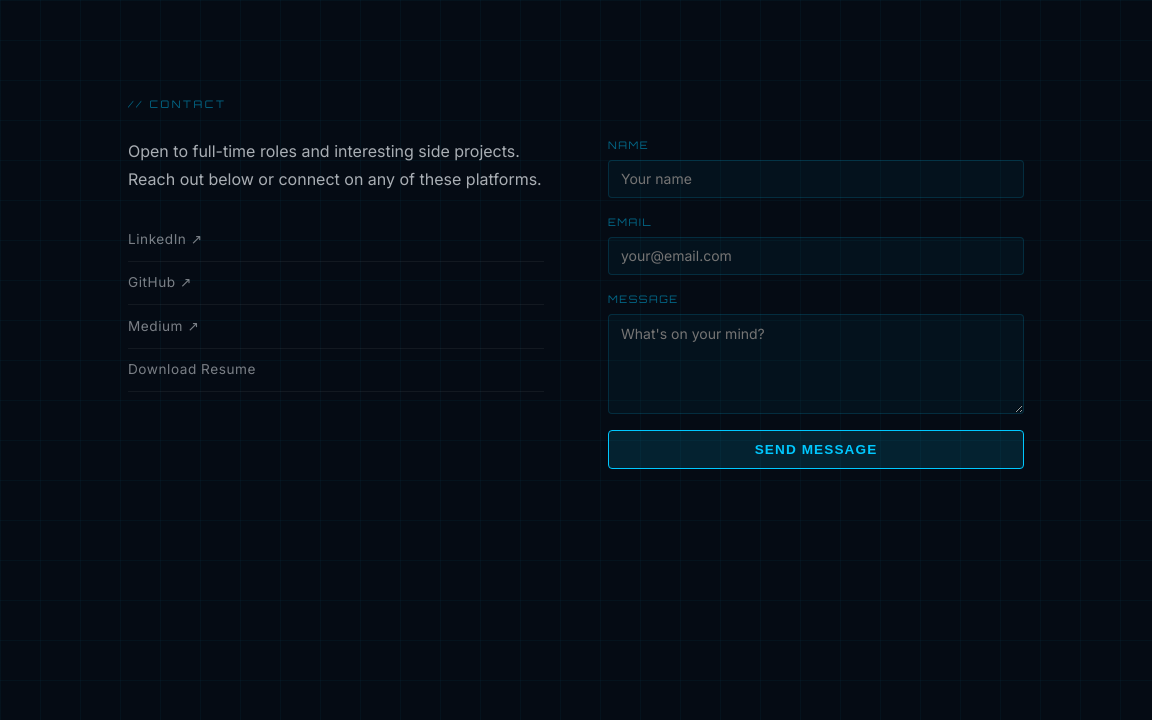
shows error message when submission fails
The width and height of the screenshot is (1152, 720).
In the field labelled "Name": (816, 179) [608,160,1024,198], type "Test User"
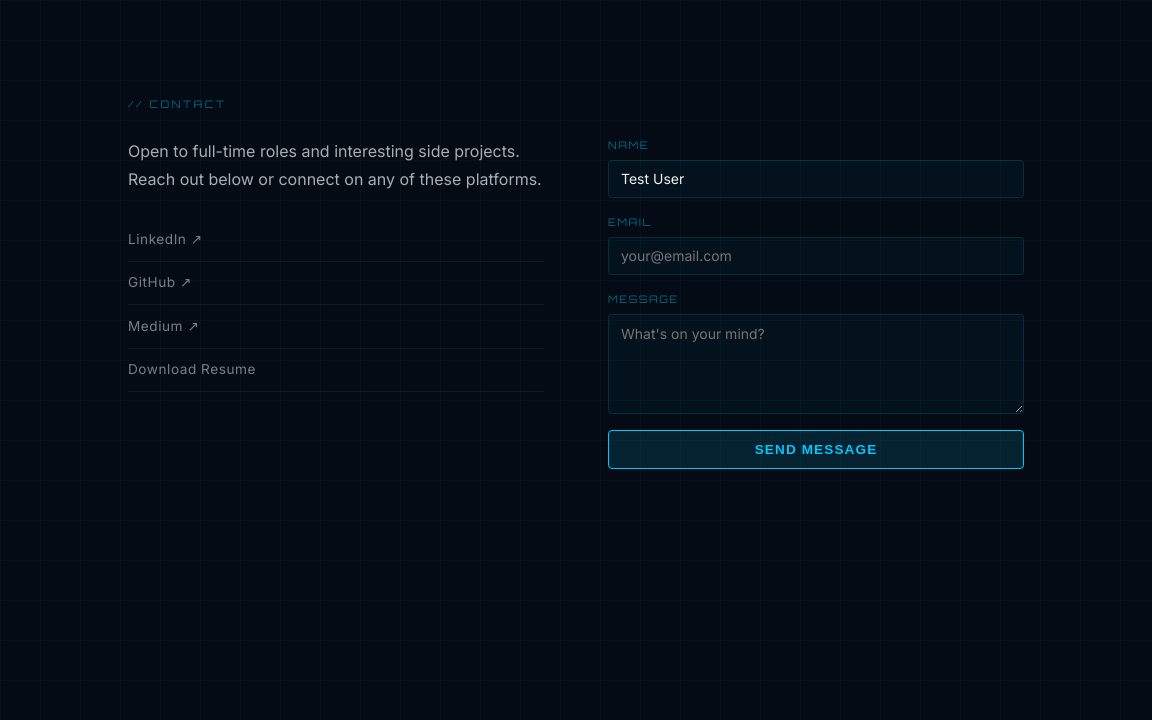
In the field labelled "Email": (816, 256) [608,237,1024,275], type "test@example.com"
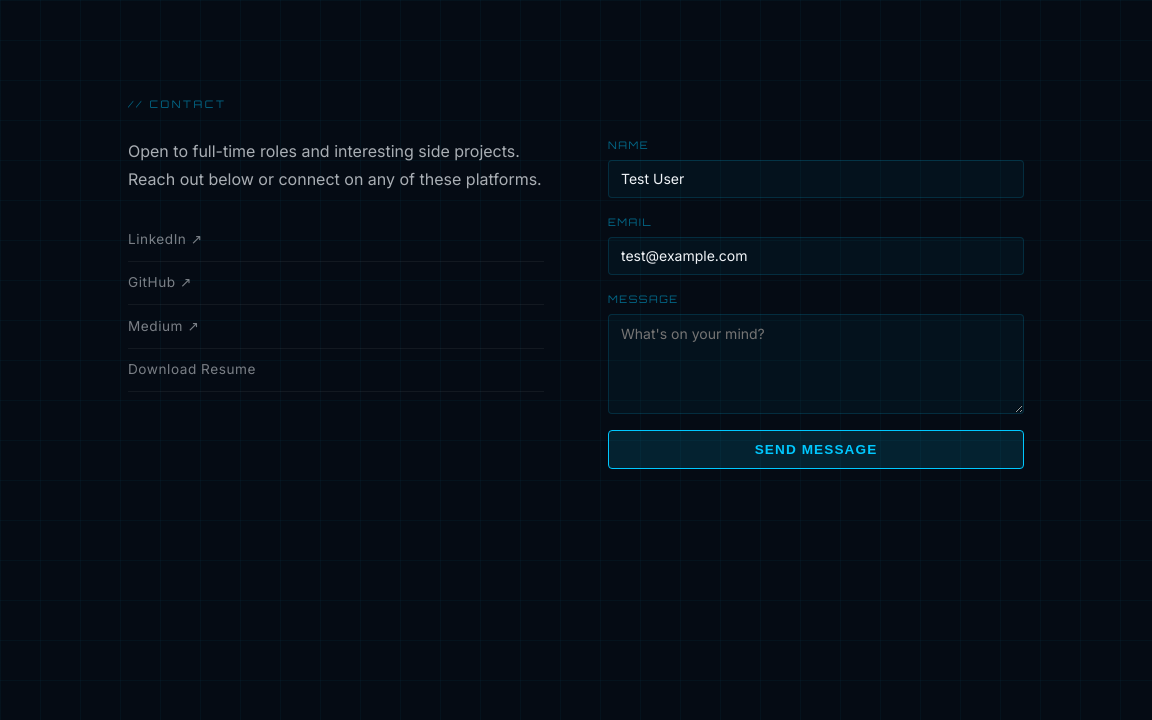
In the text box labelled "Message": (816, 364) [608,314,1024,414], type "Hello!"
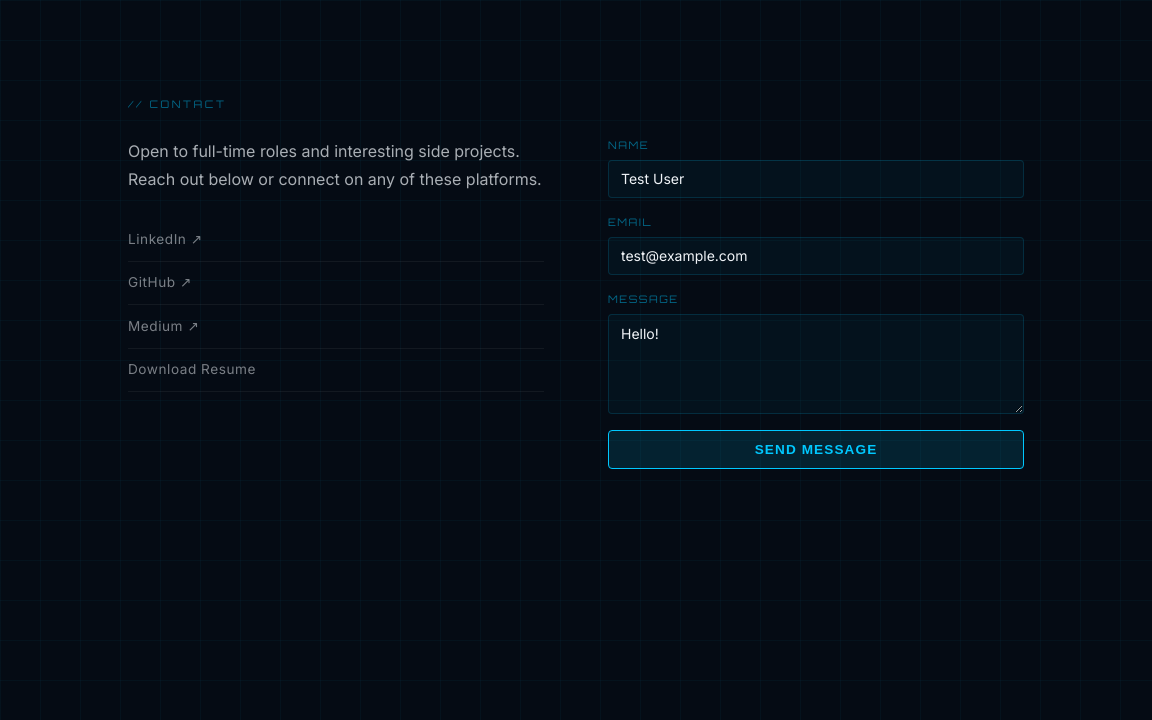
Click the button "Send Message": click(816, 450) [608,430,1024,470]
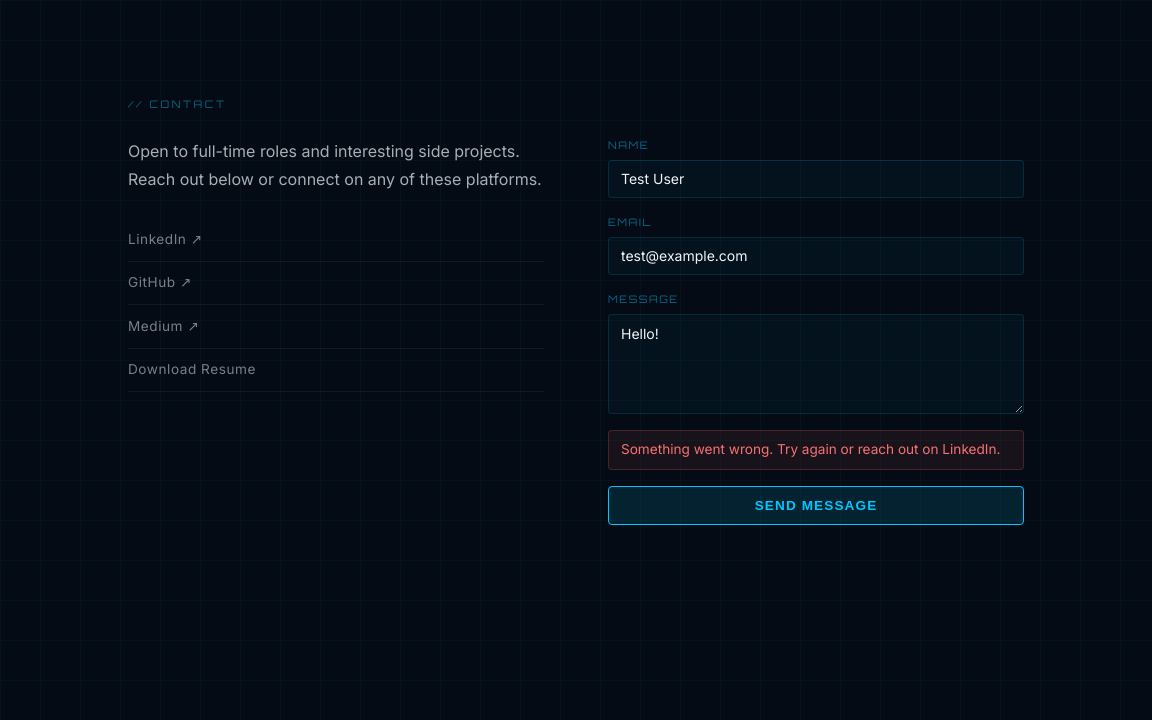
Expected: the text "Something went wrong. Try again or reach out on LinkedIn." is shown, [608,430,1024,470]
